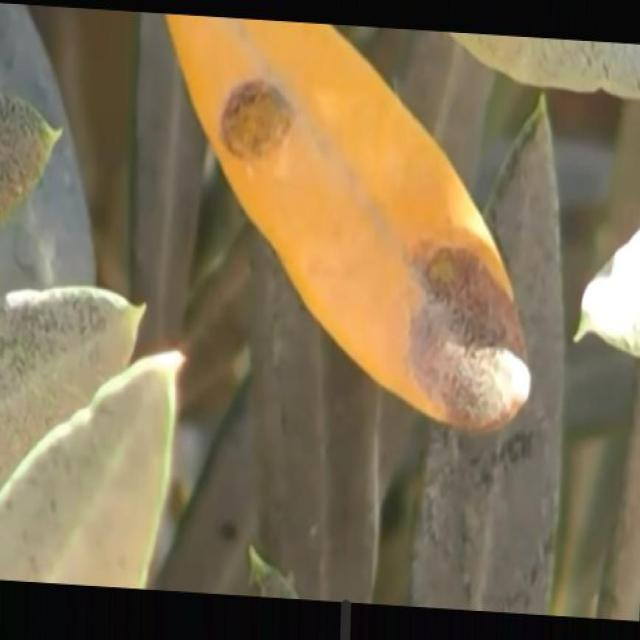Peacock Eye: (169, 16, 530, 429)
